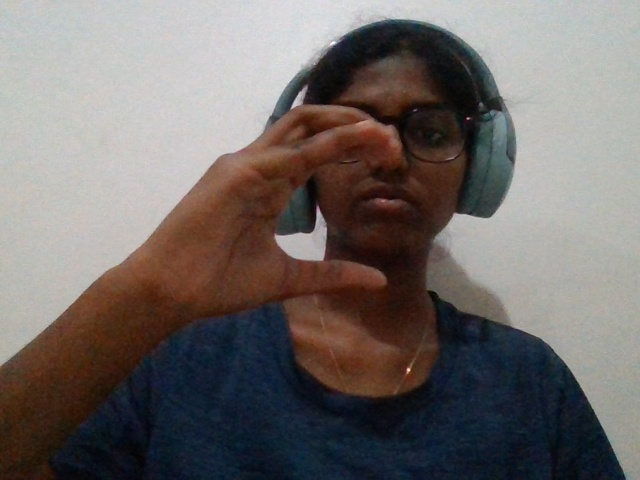C: (70, 58, 459, 405)
